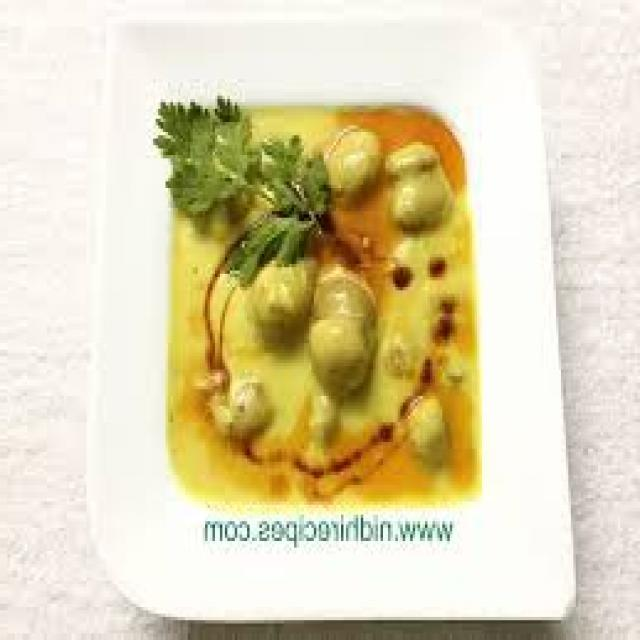Kadhi Pakora: (166, 100, 480, 507)
